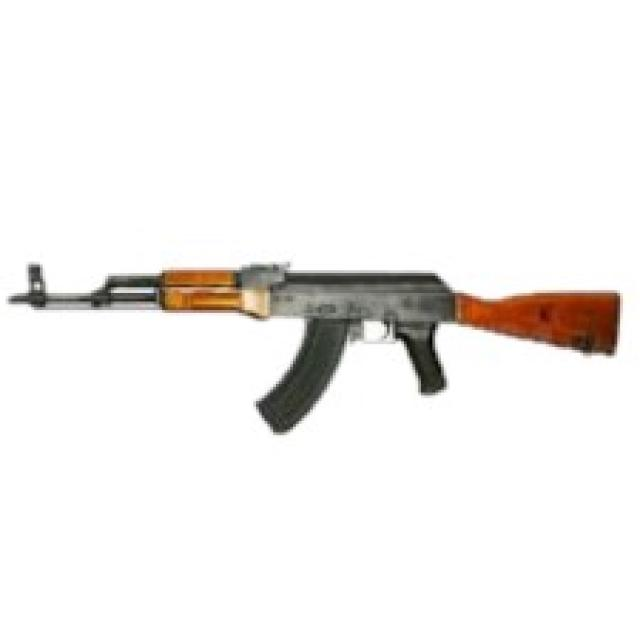rifle: (2, 257, 625, 437)
